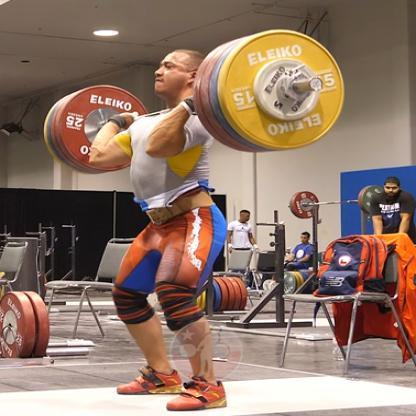barbell: (42, 27, 346, 173)
